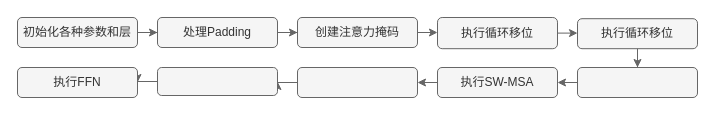
The diagram is 715 pixels wide and 115 high, and some of its shapes have lost their labels. The box of each missing label's shape, as (x1, y1, x2, y2) in pixels:
分割图像为窗口: (576, 66, 698, 98)
反向循环移位: (156, 66, 278, 96)
合并窗口: (296, 66, 418, 98)
